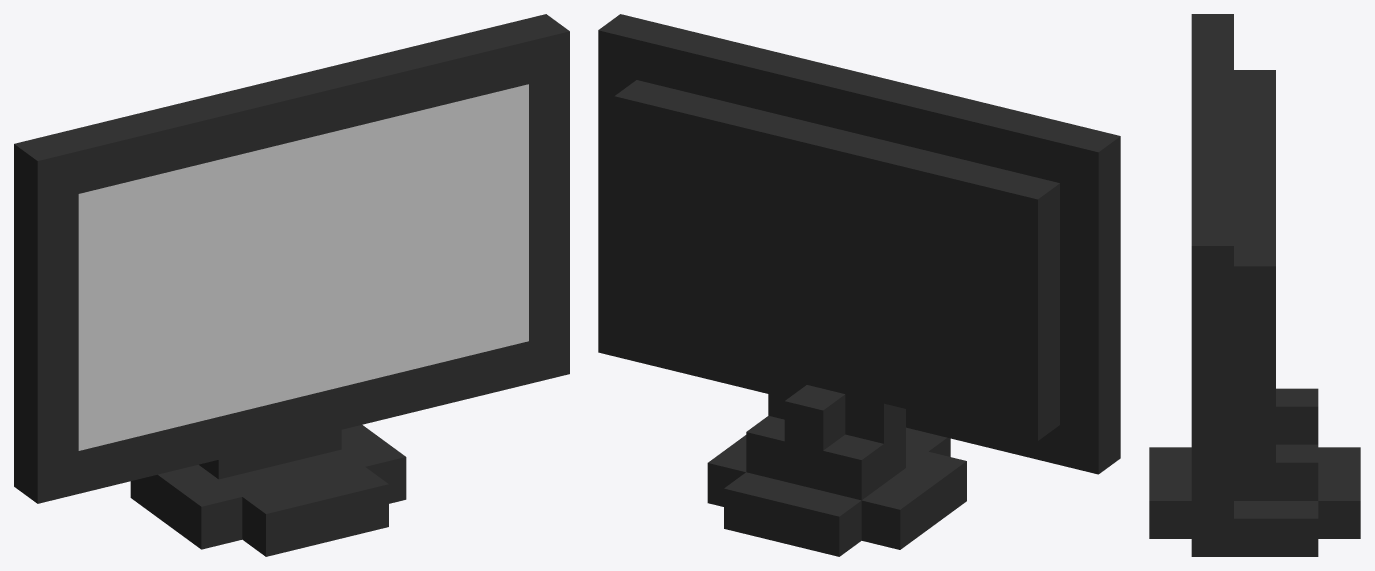
The model's file is Decor-14.obj.
The picture shows the model from 3 angles, left to right: view 1: azimuth 30°, elevation 25°; view 2: azimuth 150°, elevation 25°; view 3: azimuth 270°, elevation 25°; orthographic projection. The views are drawn at different scales.
Size of the model in its own units: 1.3 by 1 by 0.5.
1 material, 1 textured.
